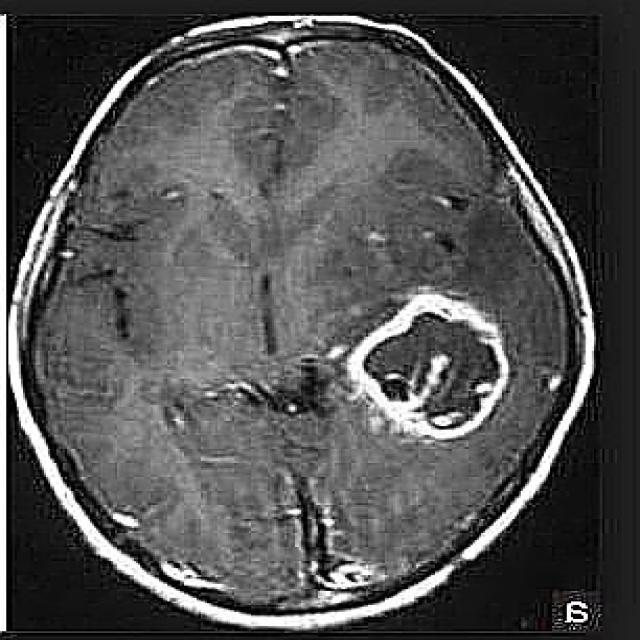Tumor-Cell: (338, 289, 505, 474)
